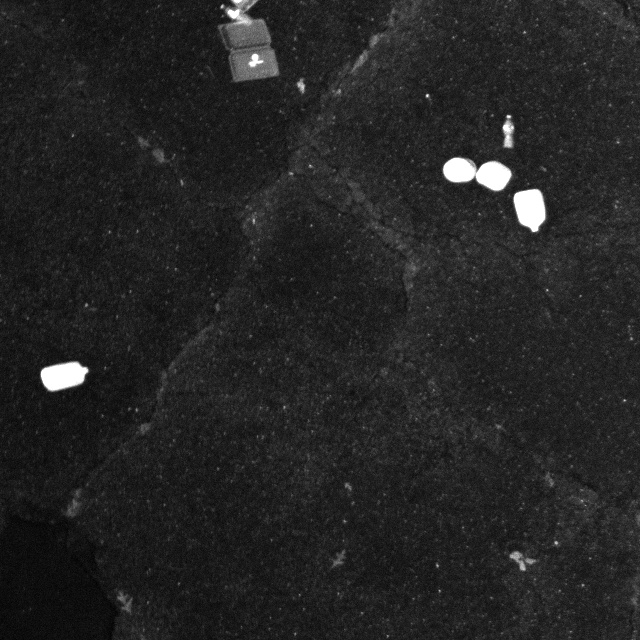can: (39, 356, 94, 402), (510, 189, 549, 241), (470, 158, 510, 196), (444, 151, 475, 187)
container: (217, 14, 285, 88)
